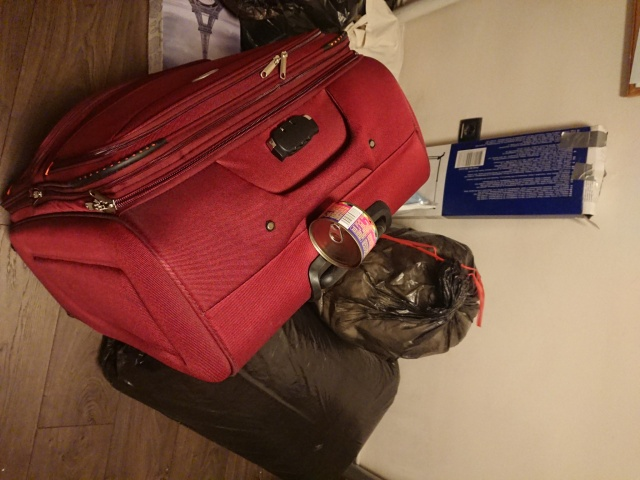Giana Tuna Salad Mexico 185g: (305, 199, 381, 273)
